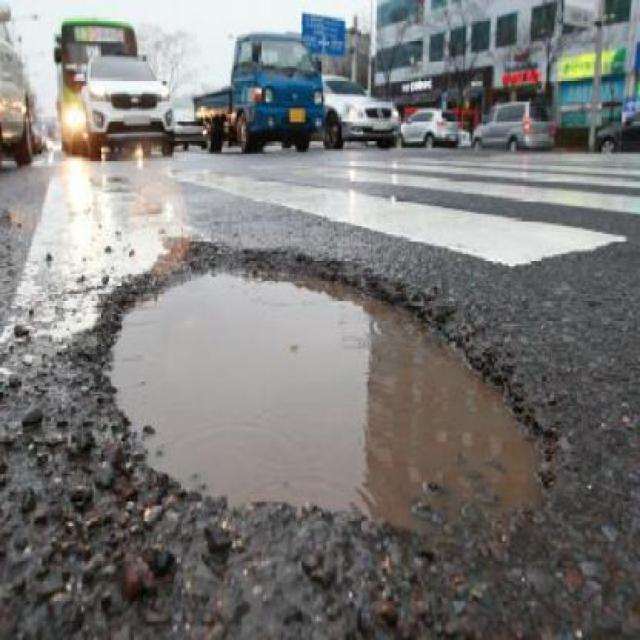Buraco: (89, 232, 568, 572)
